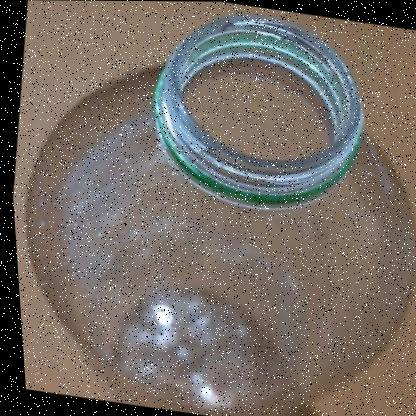open bottle: (5, 1, 416, 355)
